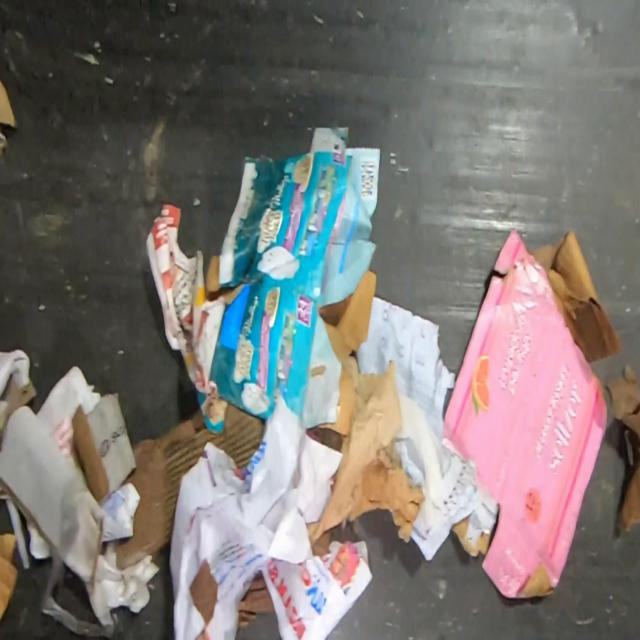cardboard: (440, 226, 609, 601), (195, 124, 382, 440), (116, 401, 266, 572), (528, 227, 621, 364), (71, 393, 140, 507), (604, 359, 640, 539), (236, 570, 275, 630), (189, 560, 218, 626), (0, 531, 20, 623), (0, 78, 19, 131)
